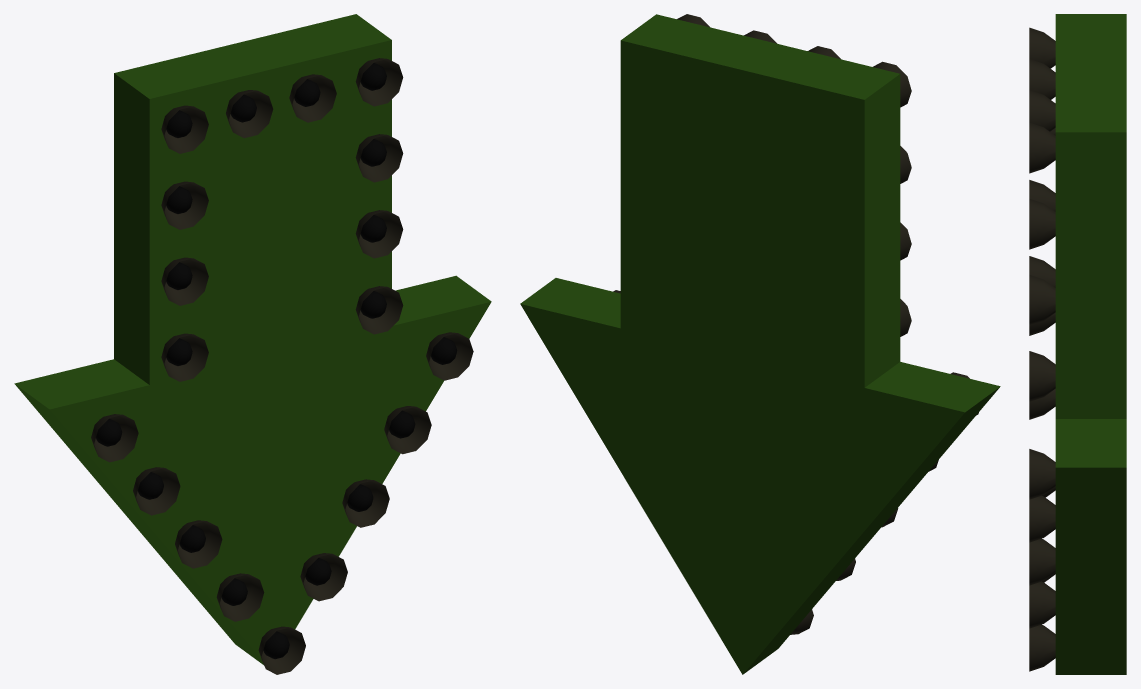
The model's file is FlashingArrow.fbx.
3 renders of one model, left to right at view 1: azimuth 30°, elevation 25°; view 2: azimuth 150°, elevation 25°; view 3: azimuth 270°, elevation 25°, orthographic.
Parts seen in each view (by area): view 1: polySurface409; view 2: polySurface409; view 3: polySurface409.
Boxes of the visible parts, x1,y1,x2,y2 form: polySurface409: (14,14,491,674); polySurface409: (520,14,1000,674); polySurface409: (1029,14,1126,674).
Bounding box in the file's own units: 289 × 375 × 54.95.
